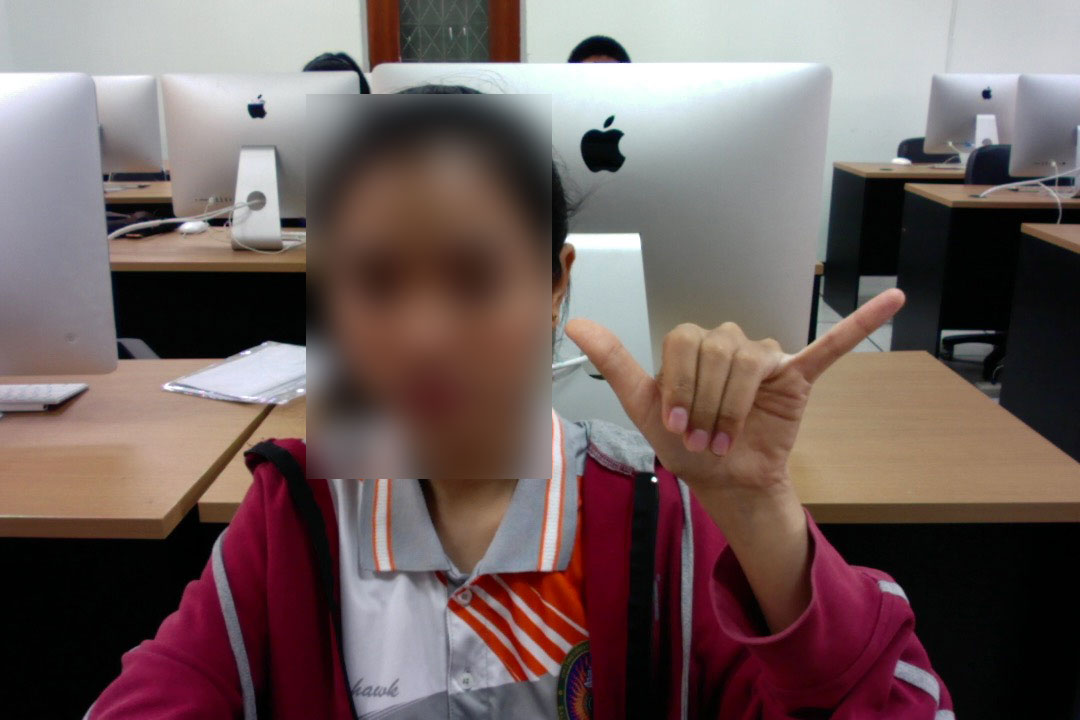yor: (555, 281, 922, 497)
